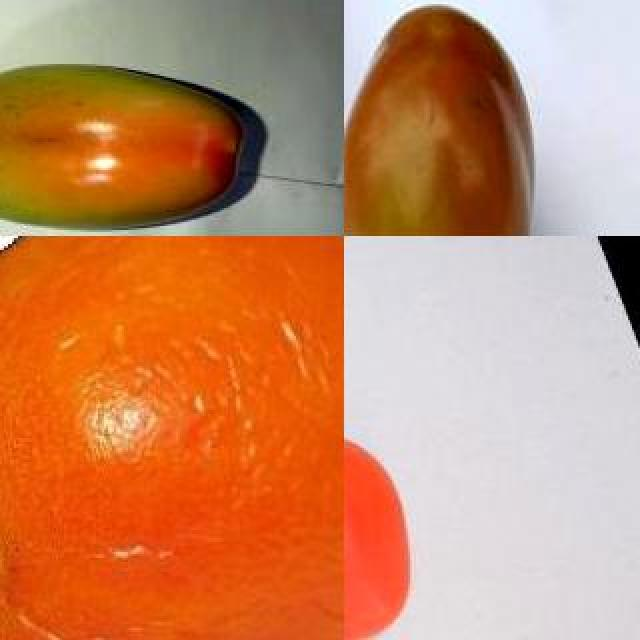Fresh_Tomato: (0, 54, 284, 236), (344, 0, 540, 236), (344, 436, 432, 640)
Rotten_Tomato: (0, 236, 344, 640)
